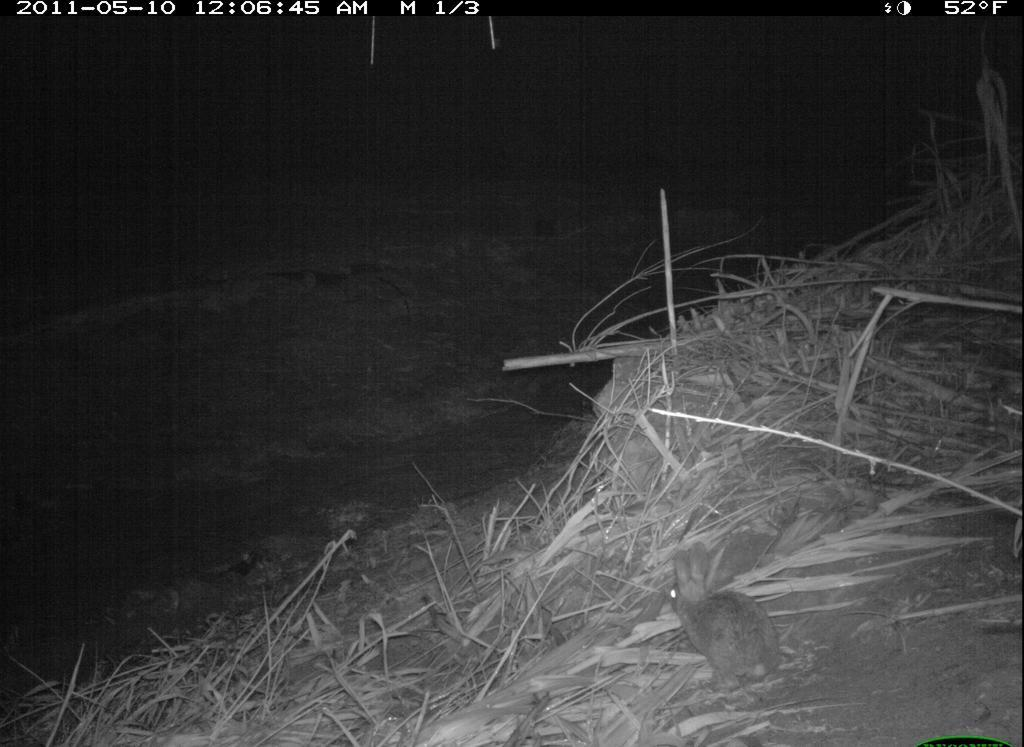rabbit: (656, 537, 786, 693)
